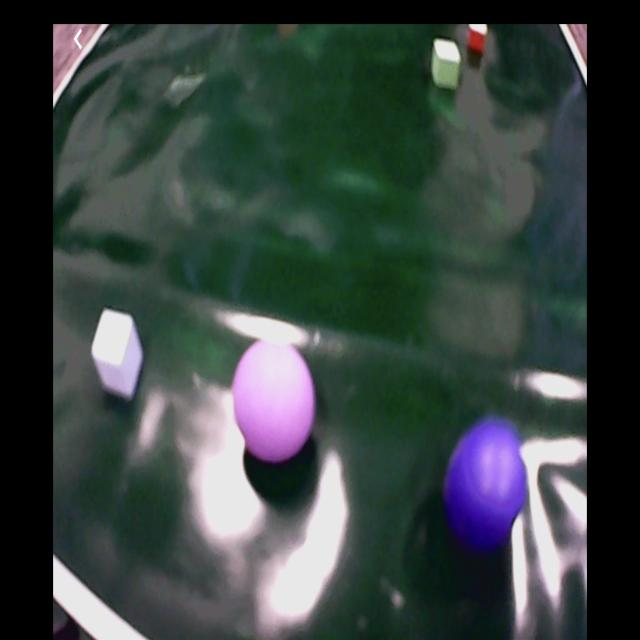ball: (232, 336, 317, 467), (444, 426, 527, 543)
